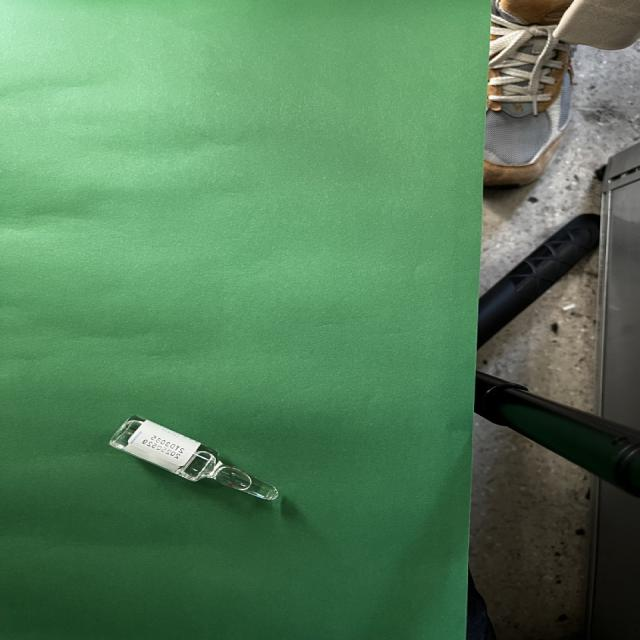Ampoules: (109, 416, 279, 500)
